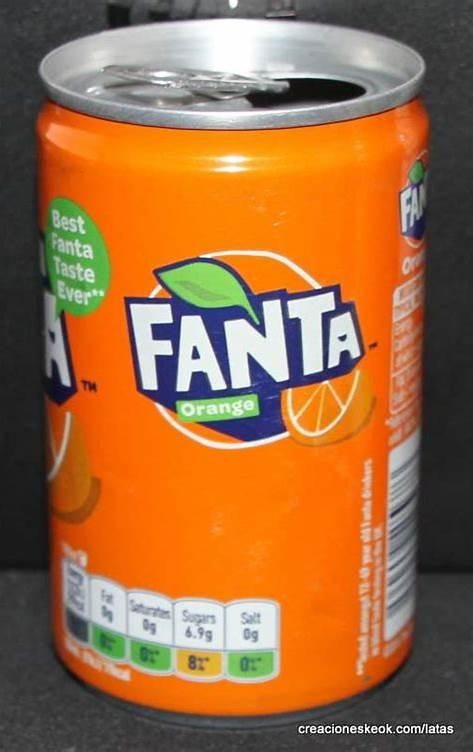metal: (37, 18, 429, 718)
